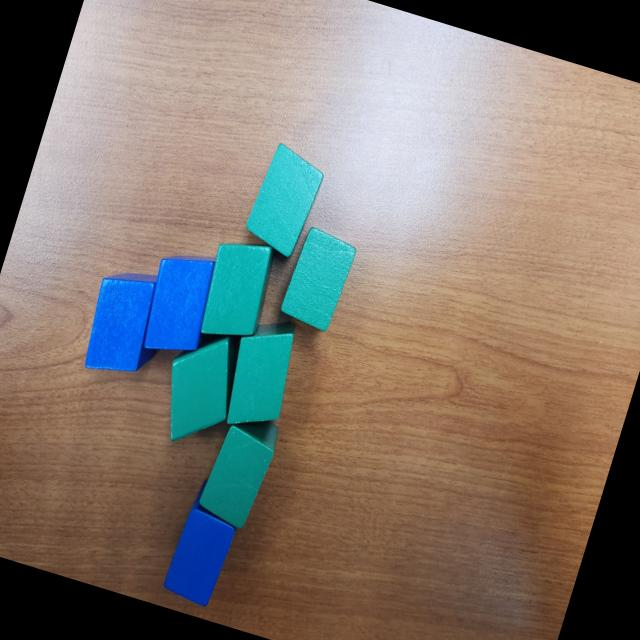blue: (76, 260, 179, 388), (160, 475, 248, 609), (134, 241, 225, 363)
green: (150, 319, 252, 455), (214, 307, 307, 438), (192, 408, 282, 532), (240, 140, 329, 262), (191, 231, 282, 349), (276, 224, 358, 334)
